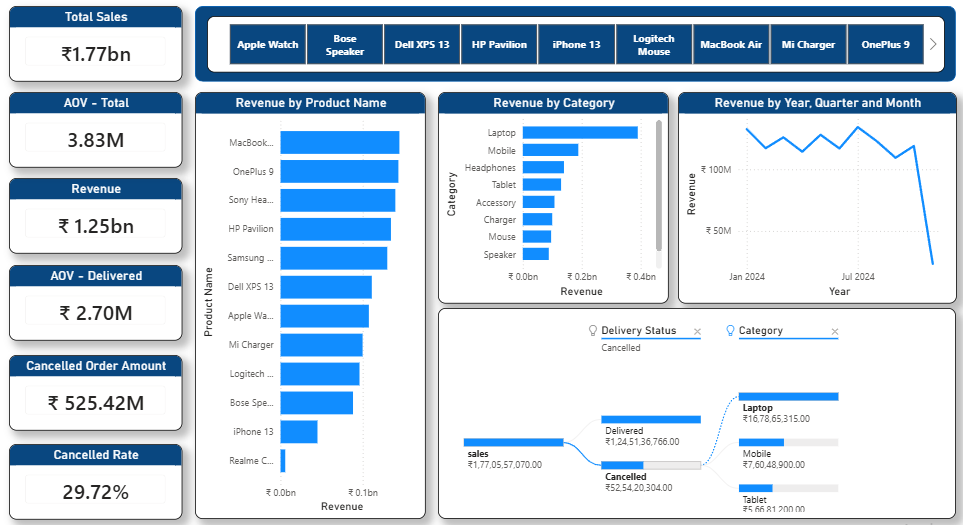

The page's visual inventory and layout, read from the dashboard file:
{"tool":"powerbi","page":{"name":"Page 1","canvas":[1280,720],"ordinal":0},"visuals":[{"type":"cardVisual","title":"Total Sales","fields":{"Data":["Table.sales"]},"box":[25.2,35.3,226.8,99.1],"z":0},{"type":"cardVisual","title":"Cancelled Order Amount","fields":{"Data":["Table.Cancelled_orders_amount"]},"box":[25.2,492.2,226.8,99.1],"z":1000},{"type":"cardVisual","title":"Revenue","fields":{"Data":["Table.Revenue"]},"box":[25.2,260.4,226.8,99.1],"z":2000},{"type":"cardVisual","title":"Cancelled Rate","fields":{"Data":["Table.Cancelled Rate"]},"box":[25.2,608.1,226.8,99.1],"z":3000},{"type":"cardVisual","title":"AOV - Total","fields":{"Data":["Table.AOV - Totla"]},"box":[25.2,147.8,226.8,99.1],"z":4000},{"type":"cardVisual","title":"AOV - Delivered","fields":{"Data":["Table.AOV"]},"box":[25.2,374.6,226.8,99.1],"z":5000},{"type":"barChart","fields":{"Y":["Table.Revenue"],"Category":["Products.Product Name"]},"box":[268.8,147.8,302.4,559.4],"z":6000},{"type":"shape","box":[268.8,35.3,996.1,99.1],"z":7000},{"type":"slicer","fields":{"Values":["Products.Product Name"]},"box":[283.9,48.7,965.9,73.9],"z":8000},{"type":"barChart","fields":{"Y":["Table.Revenue"],"Category":["Products.Category"]},"box":[586.2,147.8,302.4,277.2],"z":9000},{"type":"lineChart","fields":{"Y":["Table.Revenue"],"Category":["Orders.Date and time of purchase.Variation.Date Hierarchy.Year","Orders.Date and time of purchase.Variation.Date Hierarchy.Quarter","Orders.Date and time of purchase.Variation.Date Hierarchy.Month"]},"box":[900.4,147.8,364.5,277.2],"z":10000},{"type":"decompositionTreeVisual","fields":{"ExplainBy":["Orders.Delivery Status","Products.Category"],"Analyze":["Table.sales"]},"box":[586.1,430.6,678.2,276.5],"z":11000}]}

Visuals, with their boxes in screenshot pixels (x1, y1, x2, y2):
"Total Sales" cardVisual: crop(2, 2, 177, 79)
"Cancelled Order Amount" cardVisual: crop(2, 355, 177, 431)
"Revenue" cardVisual: crop(2, 176, 177, 252)
"Cancelled Rate" cardVisual: crop(2, 444, 177, 521)
"AOV - Total" cardVisual: crop(2, 89, 177, 165)
"AOV - Delivered" cardVisual: crop(2, 264, 177, 340)
barChart - Table.Revenue x Products.Product Name: crop(190, 89, 423, 521)
shape: crop(190, 2, 958, 79)
slicer - Products.Product Name: crop(202, 12, 947, 70)
barChart - Table.Revenue x Products.Category: crop(435, 89, 668, 303)
lineChart - Table.Revenue x Orders.Date and time of purchase.Variation.Date Hierarchy.Year: crop(677, 89, 958, 303)
decompositionTreeVisual - Orders.Delivery Status x Products.Category: crop(435, 307, 958, 521)
